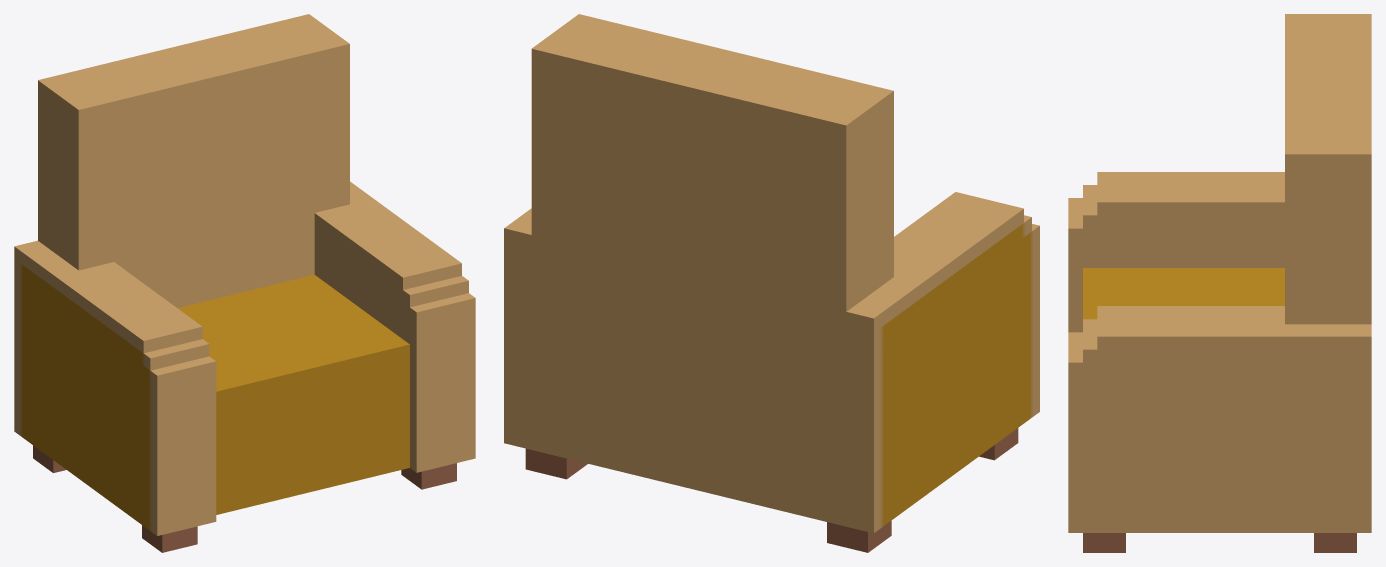
Rendered from chair2.dae.
The picture shows the model from 3 angles, left to right: view 1: azimuth 30°, elevation 25°; view 2: azimuth 150°, elevation 25°; view 3: azimuth 270°, elevation 25°; orthographic projection. The views are drawn at different scales.
Parts seen in each view (by area): view 1: pl0; view 2: pl0; view 3: pl0.
Part boxes in pixels (<box>): pl0: <box>14,14,475,552</box>; pl0: <box>504,14,1039,552</box>; pl0: <box>1068,14,1371,552</box>.
Size of the model in its own units: 27 by 21 by 30.
